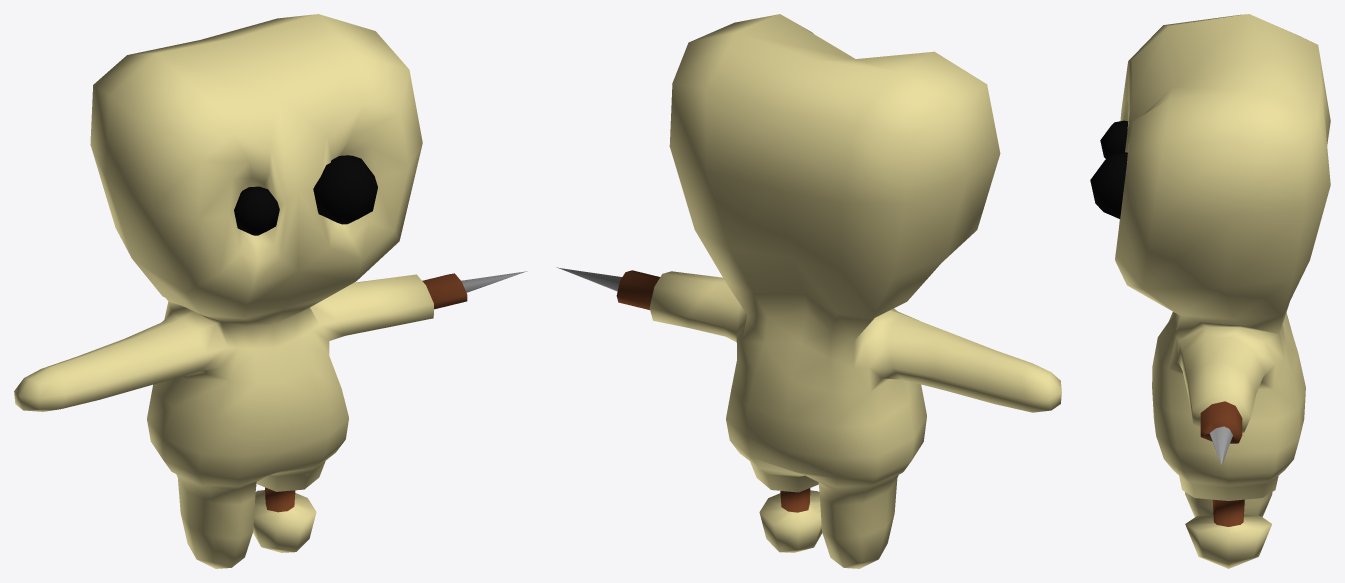
The model's file is petitbonhomme2.fbx.
3 renders of one model, left to right at view 1: azimuth 30°, elevation 25°; view 2: azimuth 150°, elevation 25°; view 3: azimuth 270°, elevation 25°, orthographic. The views are drawn at different scales.
Parts seen in each view (by area): view 1: Cube.019; view 2: Cube.019; view 3: Cube.019.
Boxes of the visible parts, x1,y1,x2,y2 form: Cube.019: [14, 14, 527, 568]; Cube.019: [556, 14, 1061, 568]; Cube.019: [1090, 14, 1330, 568].
Bounding box in the file's own units: 1065 × 1040 × 452.
